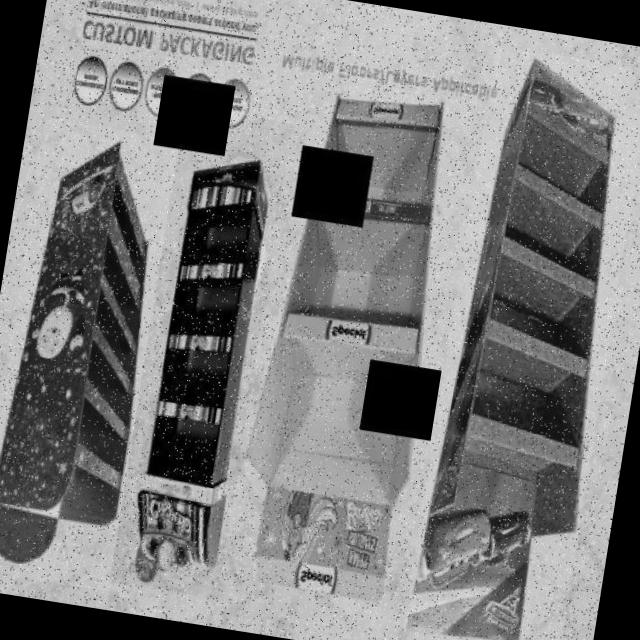box: (401, 45, 640, 640), (220, 70, 475, 608), (109, 106, 299, 600), (0, 116, 179, 591)
